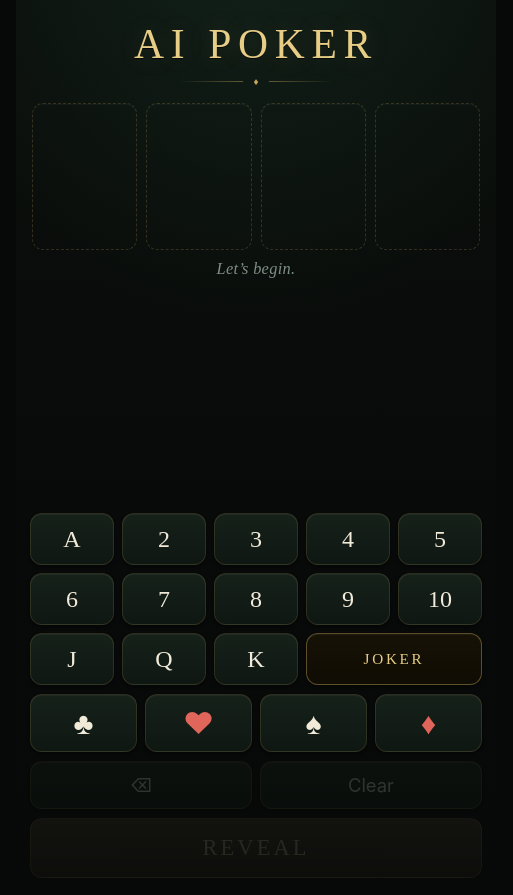
it: reveal flows › duplicate card entry is blocked with a hint
The image size is (513, 895).
What coordinates should you click on to do the following:
click the button "A"
I would click on:
 (72, 539)
Its box is [30,513,114,565].
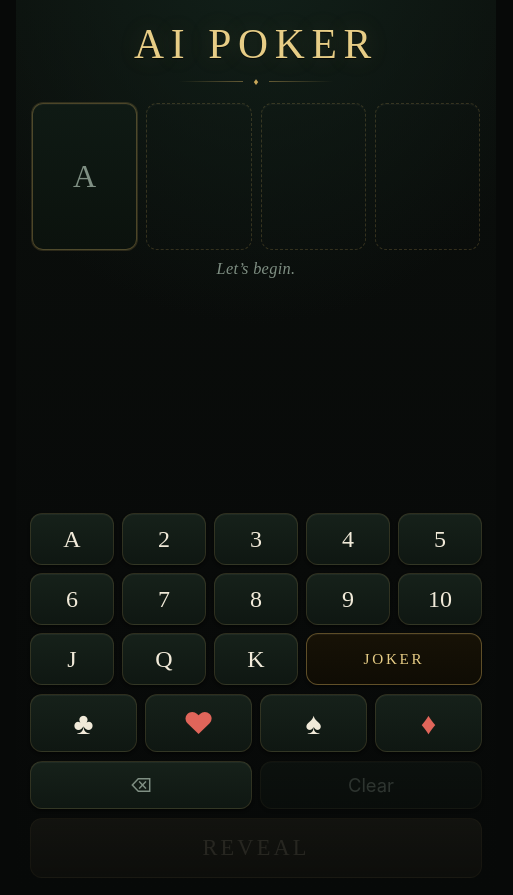
What coordinates should you click on to do the following:
click the button "♠"
I would click on:
 (314, 723)
Its box is [260,694,367,752].
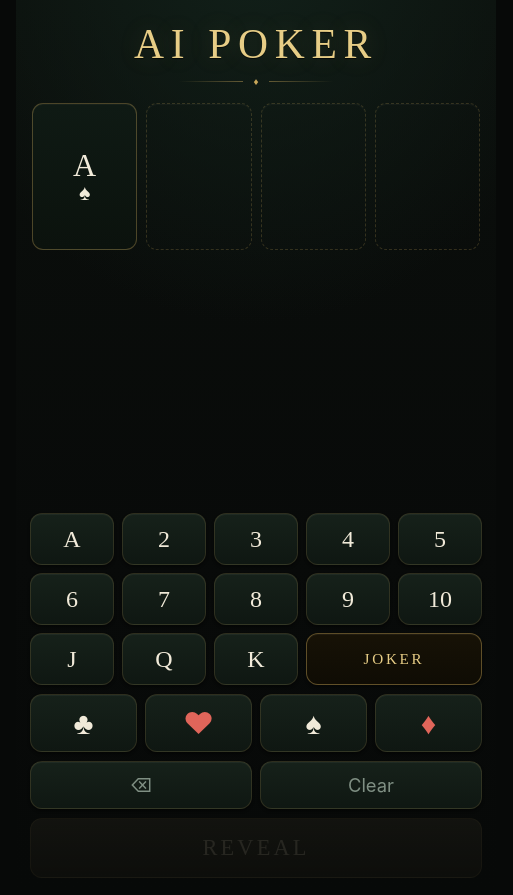
What coordinates should you click on to do the following:
click the button "A"
I would click on:
 (72, 539)
Its box is [30,513,114,565].
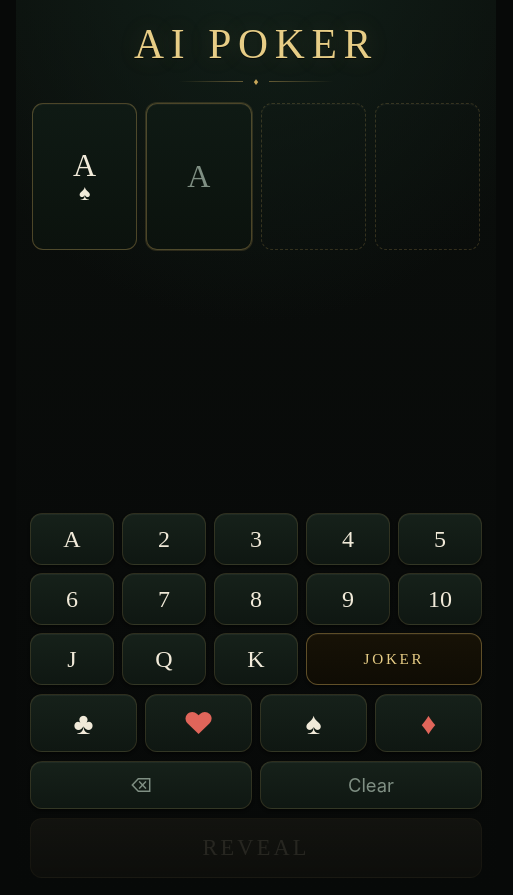
What coordinates should you click on to do the following:
click the button "♠"
I would click on:
 (314, 723)
Its box is [260,694,367,752].
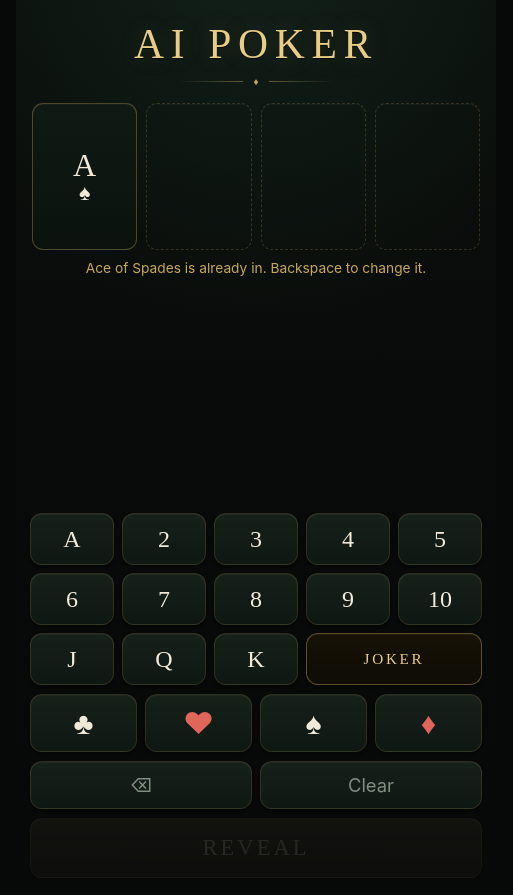
Result: the text "Ace of Spades is already in. Backspace to change it." is shown at [86,260,426,278]
